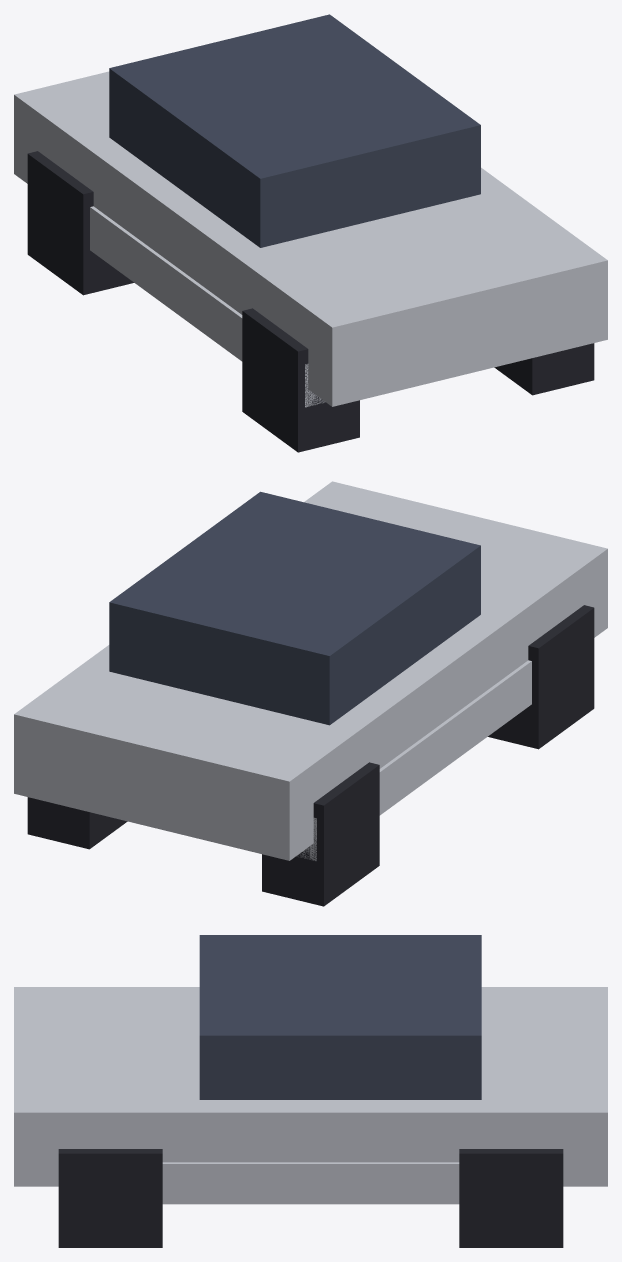
The model's file is veh_sedan.7f63604b.glb.
3 renders of one model, top to bottom at view 1: azimuth 30°, elevation 25°; view 2: azimuth 150°, elevation 25°; view 3: azimuth 270°, elevation 25°, orthographic. The views are drawn at different scales.
Visible parts, largest first — view 1: veh_sedan; view 2: veh_sedan; view 3: veh_sedan.
Part boxes in pixels (x1=…): veh_sedan: x1=14, y1=14, x2=607, y2=452; veh_sedan: x1=14, y1=481, x2=607, y2=906; veh_sedan: x1=14, y1=935, x2=607, y2=1247.
Bounding box in the file's own units: 2.15 × 1.45 × 4.
